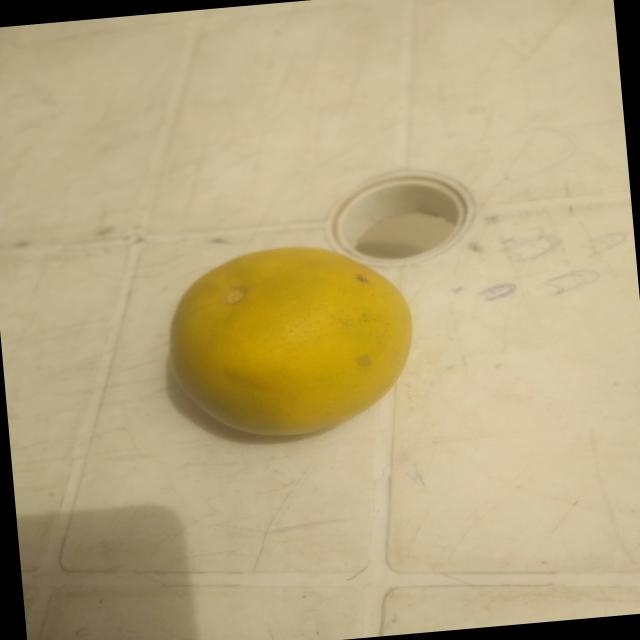agrume: (158, 228, 426, 452)
